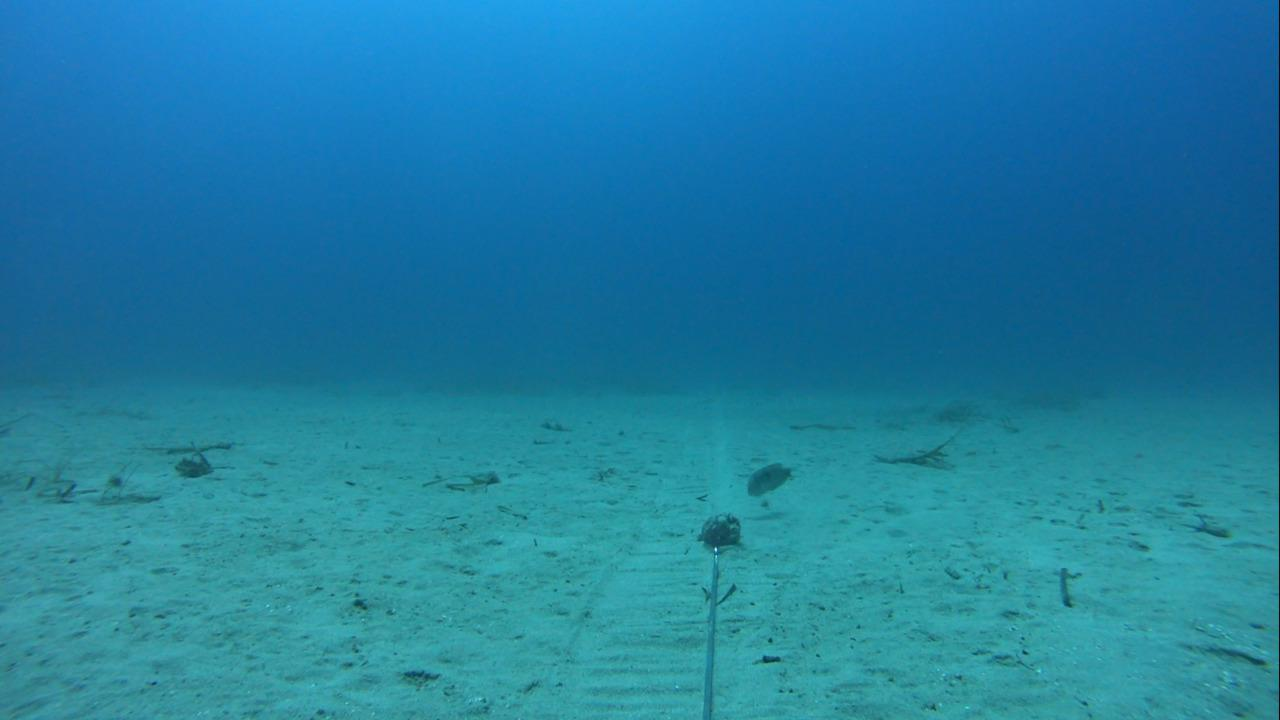raor: (741, 456, 802, 501)
